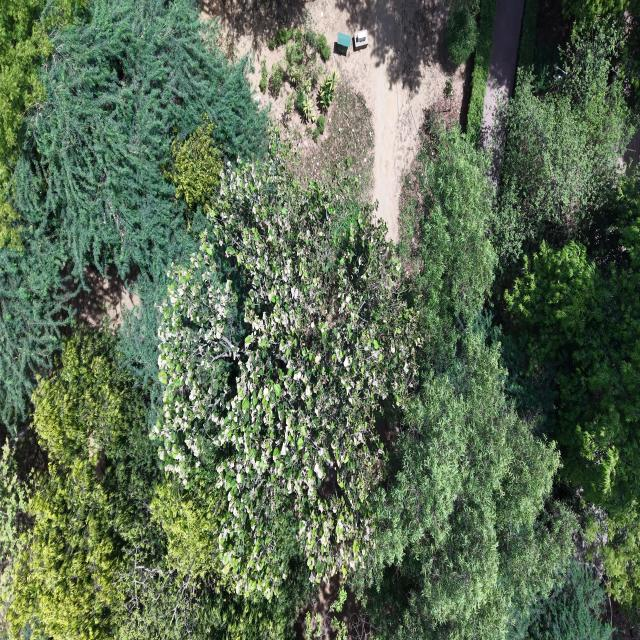DRY_AREA: (201, 0, 464, 240), (201, 0, 464, 239), (201, 0, 463, 239), (482, 0, 523, 145), (73, 267, 139, 329), (536, 0, 573, 53), (620, 130, 639, 170)
VEGETATION_TREE: (0, 0, 639, 639), (6, 121, 574, 638), (8, 124, 571, 637), (155, 123, 574, 638), (155, 164, 420, 596), (0, 0, 265, 429), (357, 119, 574, 638), (0, 331, 300, 639), (492, 12, 638, 619), (14, 0, 265, 277), (367, 329, 574, 639), (506, 177, 639, 607), (7, 333, 158, 638), (506, 220, 639, 507), (0, 0, 85, 424), (492, 27, 629, 263), (119, 479, 310, 639), (399, 112, 495, 371), (0, 0, 86, 189), (0, 223, 71, 433), (290, 83, 374, 205), (0, 0, 52, 188), (564, 0, 639, 124), (508, 561, 613, 639), (586, 503, 639, 617), (269, 27, 330, 122), (0, 441, 30, 633), (165, 116, 222, 212), (466, 0, 496, 144), (285, 30, 321, 121), (285, 29, 321, 92), (269, 25, 330, 61), (447, 0, 479, 66), (622, 0, 639, 116), (562, 0, 632, 24), (518, 0, 539, 72), (0, 200, 22, 250), (320, 70, 340, 111), (296, 90, 316, 122), (269, 28, 295, 50), (294, 90, 312, 121), (268, 64, 284, 98), (317, 34, 330, 62), (259, 60, 268, 93), (443, 80, 453, 109), (284, 94, 294, 117), (316, 115, 325, 134), (312, 126, 319, 142)
